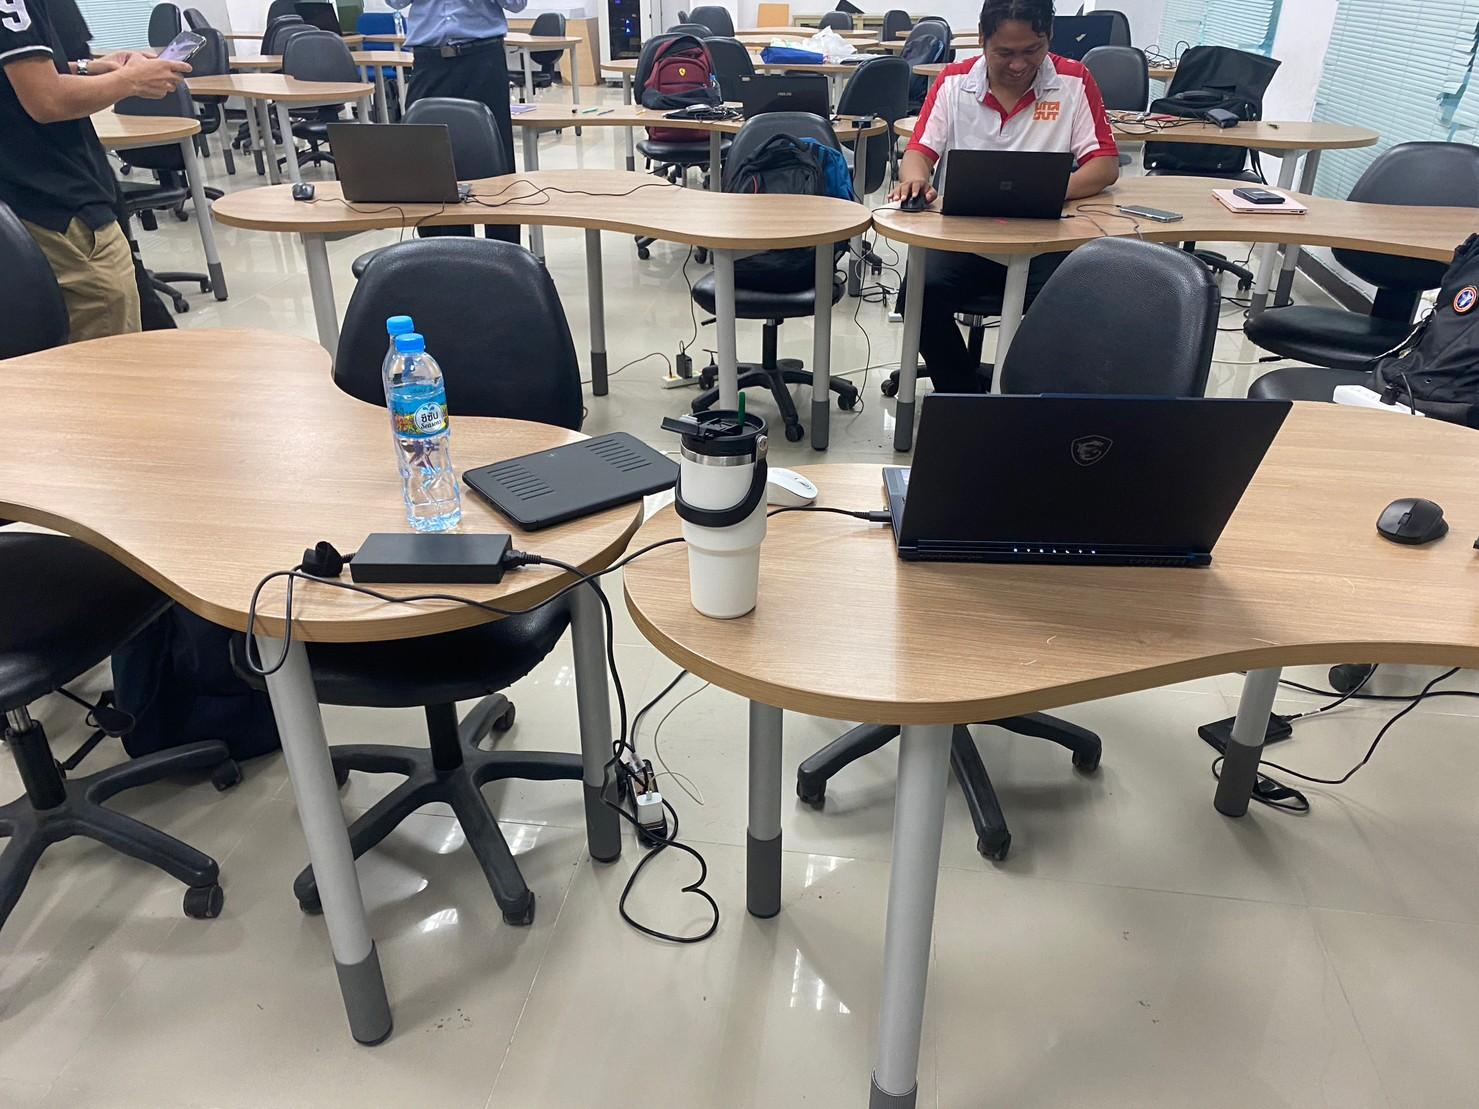bottle: (377, 317, 469, 538)
